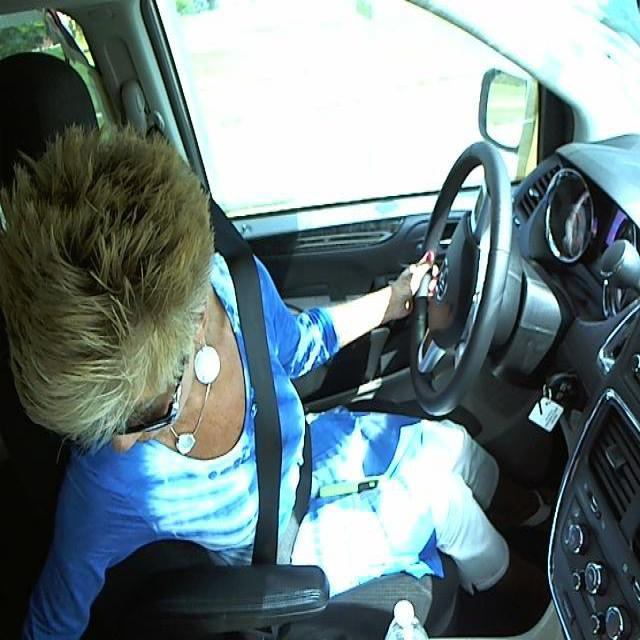seatbelt: (228, 271, 319, 557)
